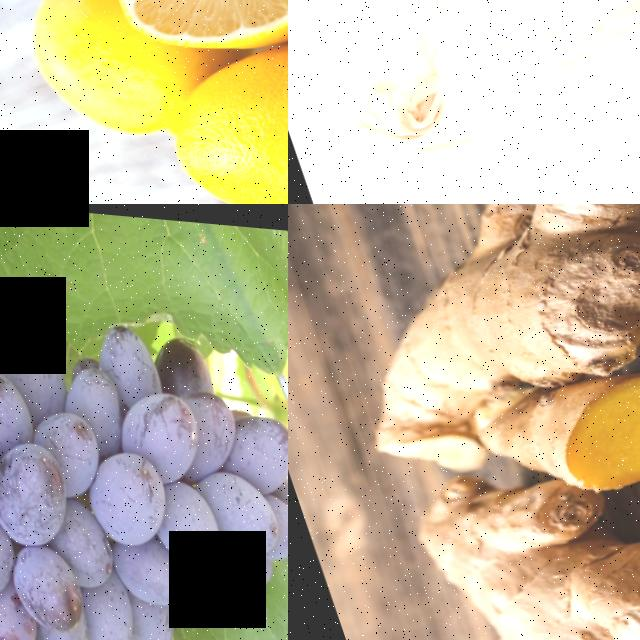garlic: (316, 0, 640, 204)
ginger: (299, 204, 640, 459), (393, 419, 640, 640), (459, 333, 640, 524)
grapes: (0, 232, 288, 640)
lemon: (1, 0, 169, 159), (169, 0, 288, 204), (120, 0, 288, 73)
